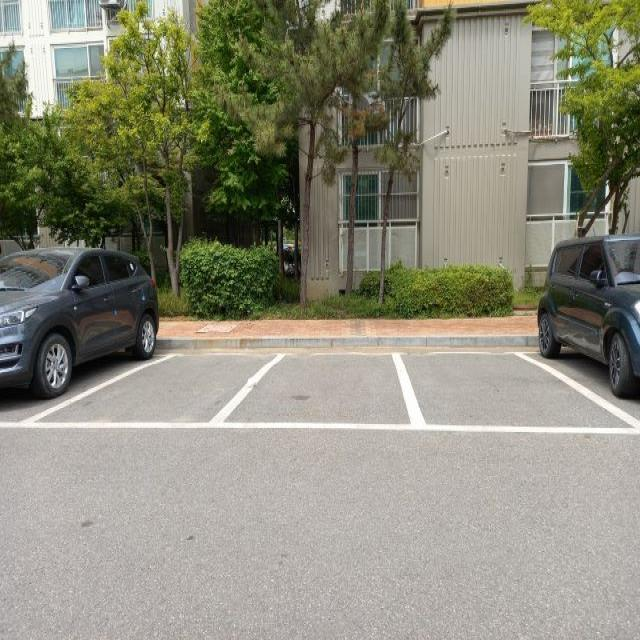Car: (0, 244, 147, 390), (537, 237, 640, 399)
Vacant: (405, 344, 549, 434), (258, 349, 396, 429), (138, 347, 245, 435)
